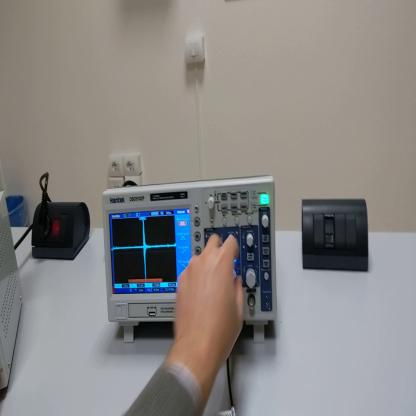hand: (172, 229, 245, 369)
oscilloscope: (102, 173, 287, 349)
power supply: (1, 188, 25, 392)
socket: (30, 203, 92, 263)
